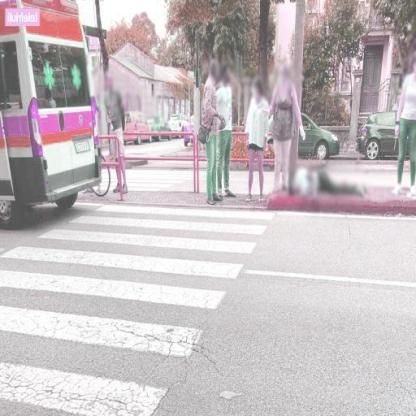crosswalk: (1, 243, 250, 315)
